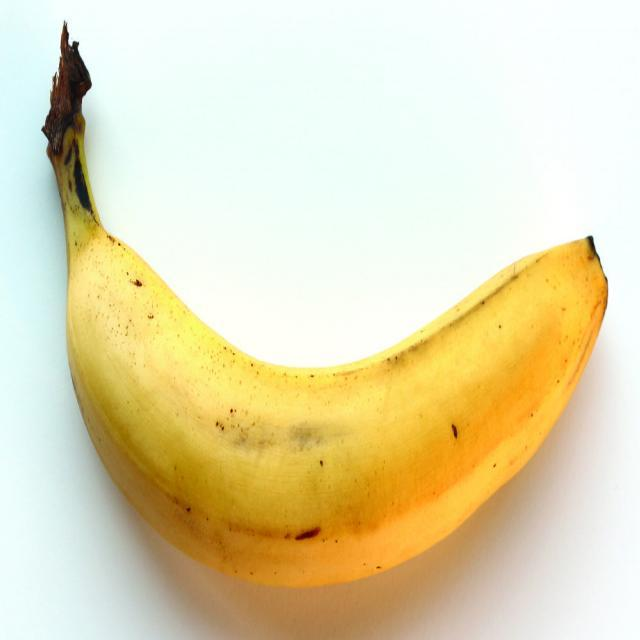Banana: (44, 39, 610, 602)
